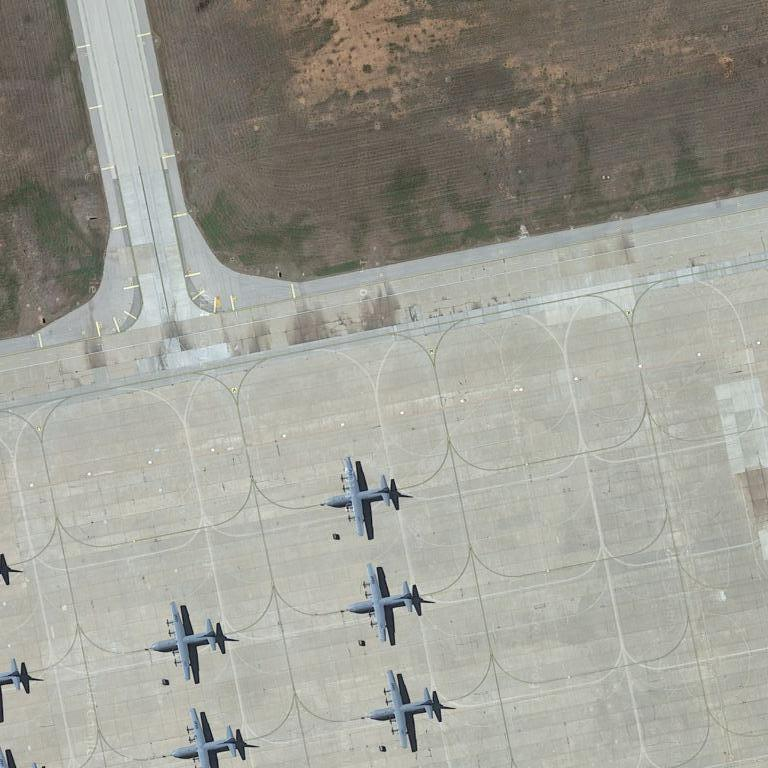C-130: (148, 600, 231, 685), (344, 562, 421, 648), (364, 669, 441, 750), (324, 454, 398, 536), (171, 707, 246, 765)
